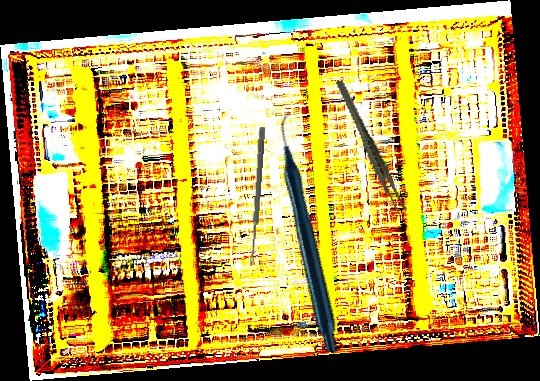Handpiece: (203, 110, 419, 355)
Surgical Spoon: (248, 126, 266, 267)
Tissue Forceps: (334, 72, 408, 222)
